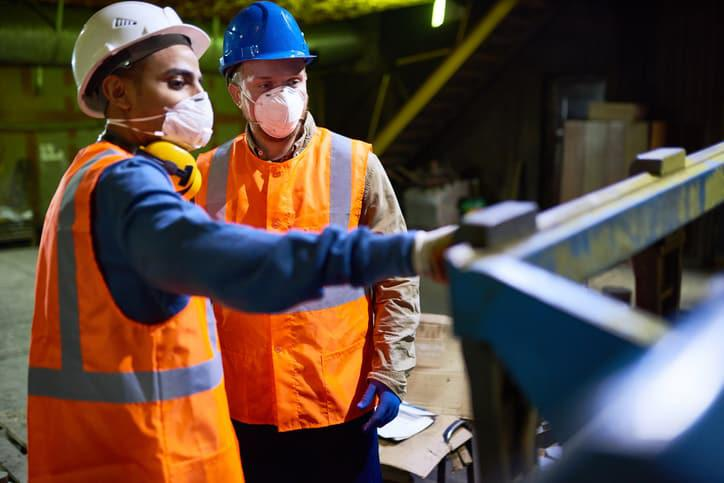hardhat: (71, 3, 212, 90), (220, 2, 320, 70)
worker: (28, 4, 460, 483)
